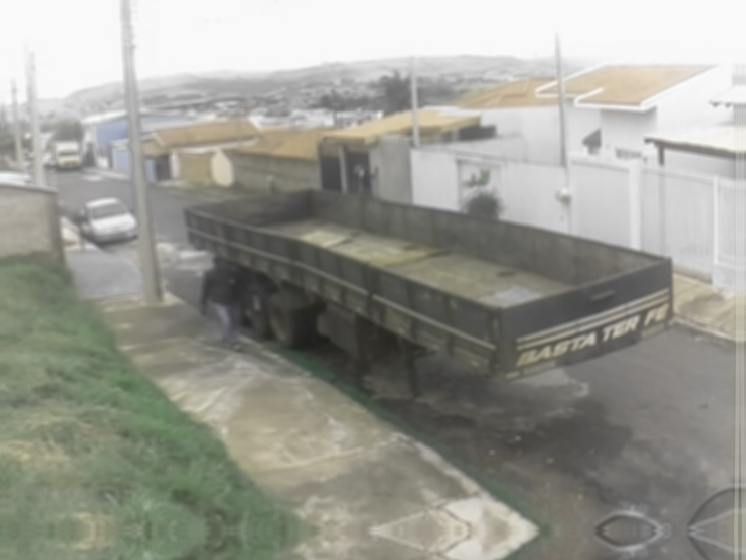person: (197, 253, 249, 350)
